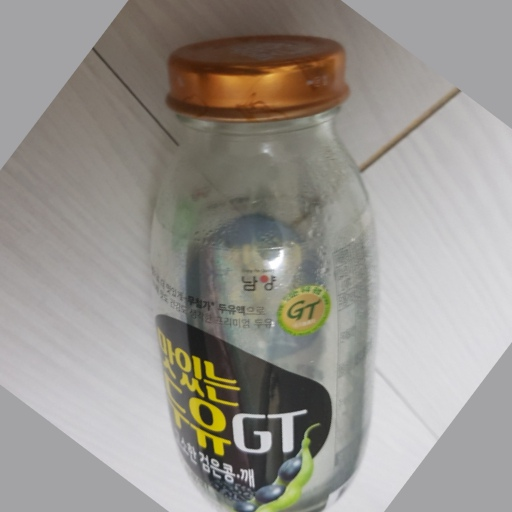Glass_4: (149, 35, 381, 512)
